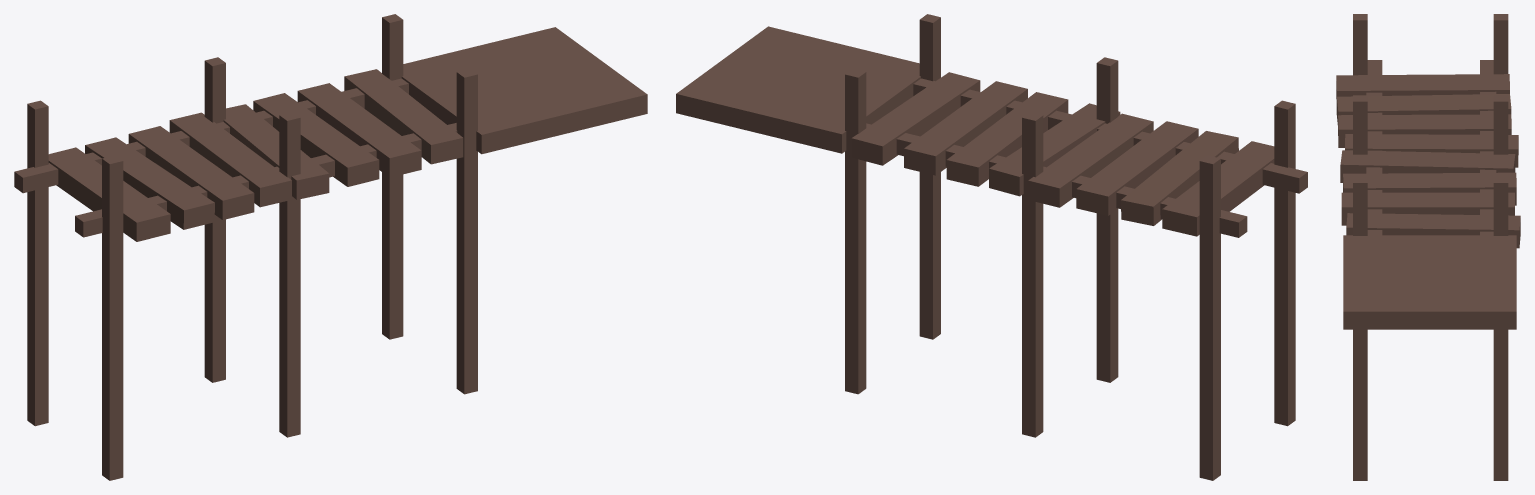
Rendered from pontoon.fbx.
3 views of the same model, side by side, from view 1: azimuth 30°, elevation 25°; view 2: azimuth 150°, elevation 25°; view 3: azimuth 270°, elevation 25° (orthographic). The views are drawn at different scales.
Visible parts, largest first — view 1: petit ponton1; view 2: petit ponton1; view 3: petit ponton1.
Part boxes in pixels (bbox=[...]): petit ponton1: bbox=[14, 14, 647, 480]; petit ponton1: bbox=[676, 14, 1307, 480]; petit ponton1: bbox=[1336, 14, 1520, 480].
Size of the model in its own units: 242 by 133 by 74.39.
